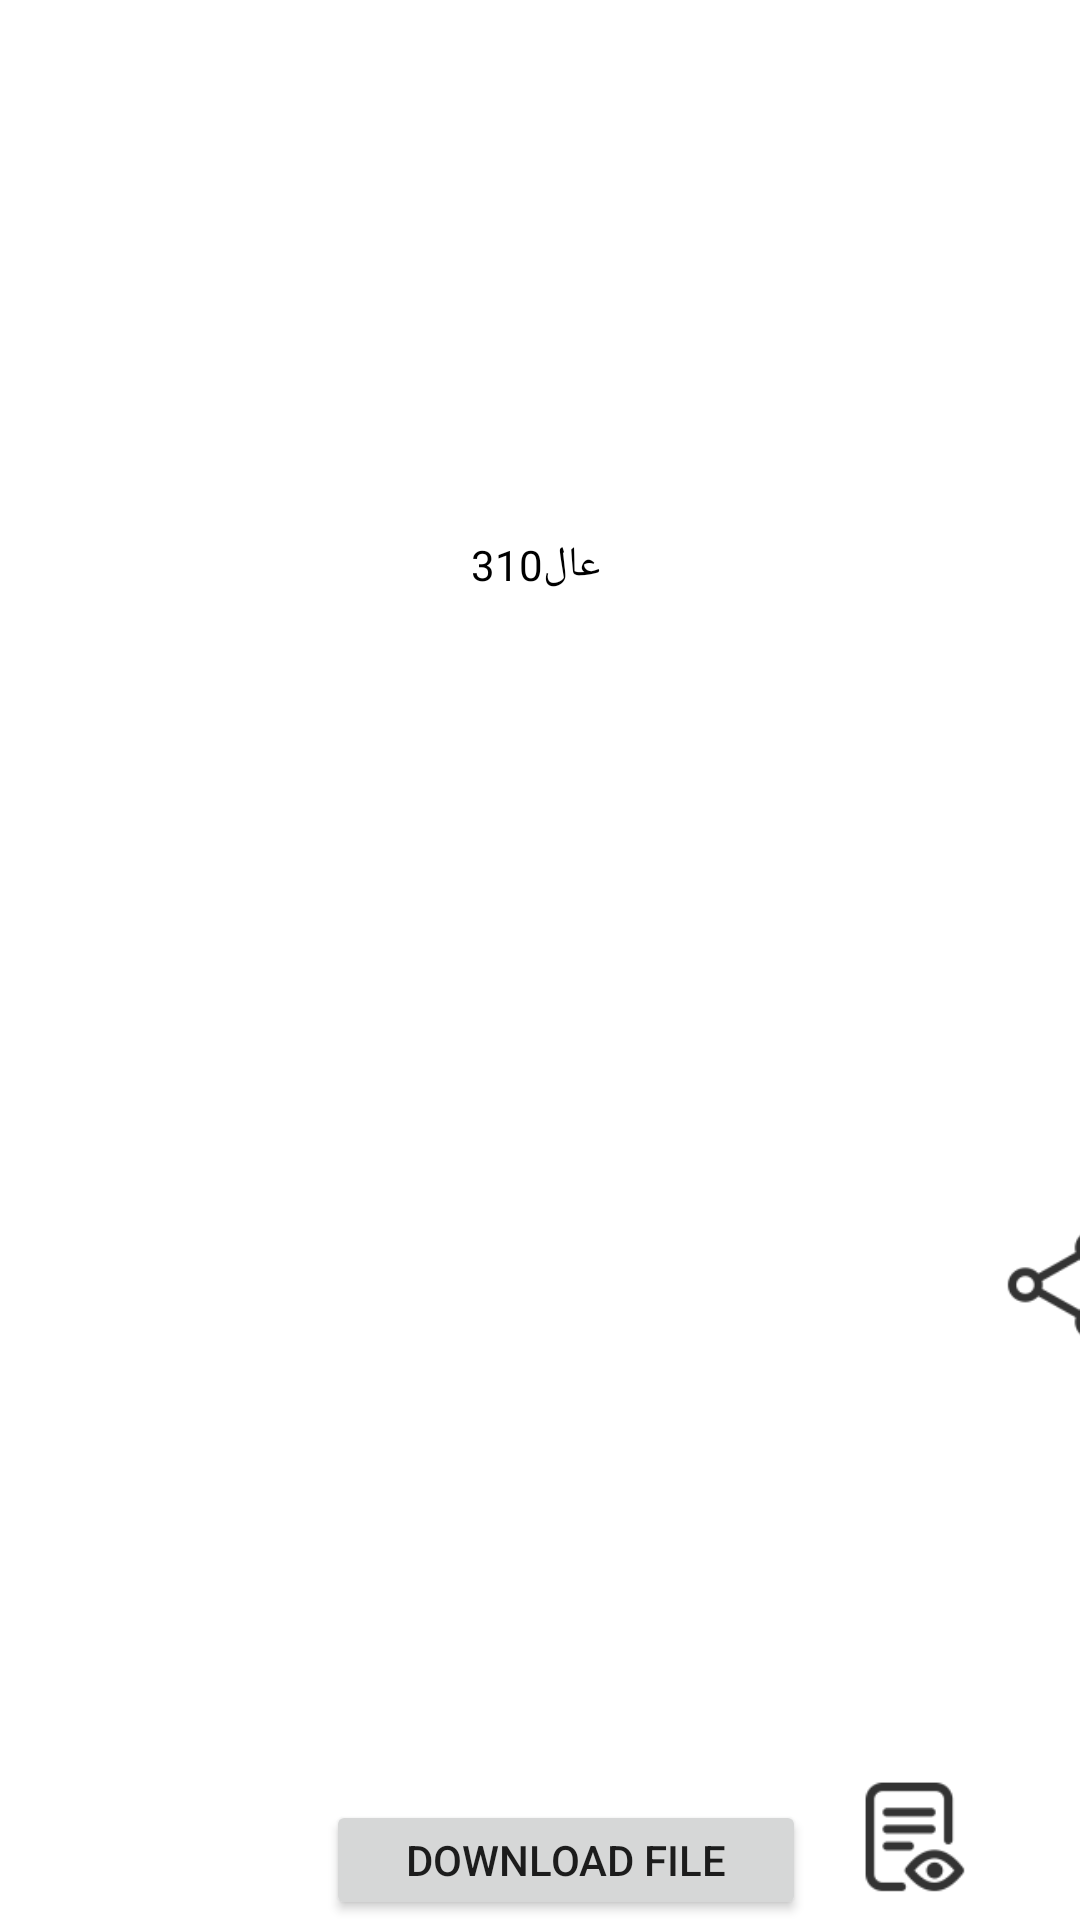

Screen size 1080 × 1920. Icon name, then its box in pixels as (x1, y1, x2, y2):
view: (865, 1782, 965, 1892)
